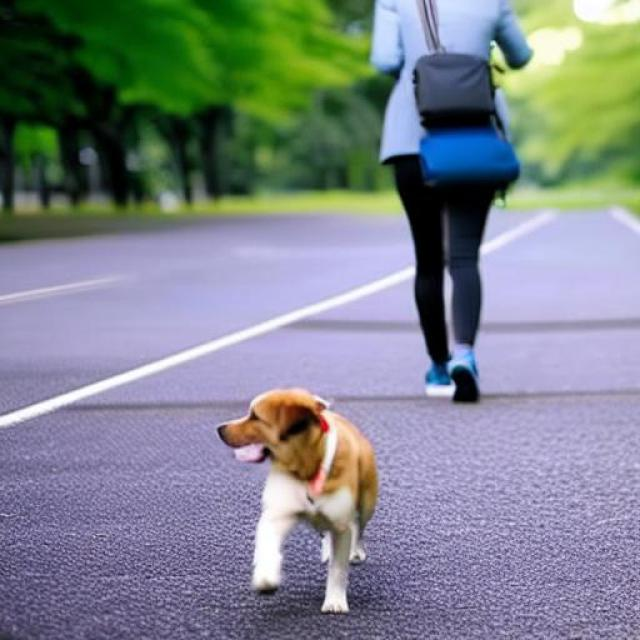Unleashed_Dog: (216, 111, 500, 614)
